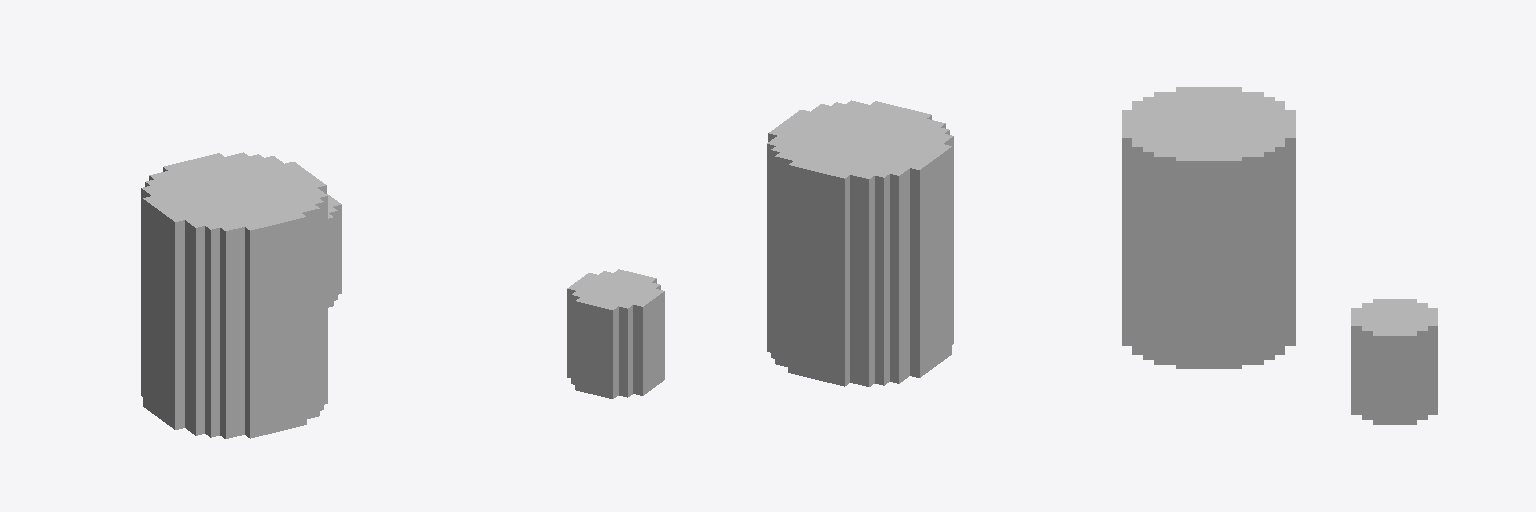
File: barrel.obj
3 renders of one model, left to right at view 1: azimuth 30°, elevation 25°; view 2: azimuth 150°, elevation 25°; view 3: azimuth 270°, elevation 25°, orthographic.
Parts seen in each view (by area): view 1: barrel; view 2: barrel; view 3: barrel.
Boxes of the visible parts, box(x1,y1,x2,y2) form: barrel: box(141, 152, 341, 438); barrel: box(567, 100, 953, 398); barrel: box(1122, 87, 1437, 424).
Bounding box in the file's own units: 28 × 21 × 29.